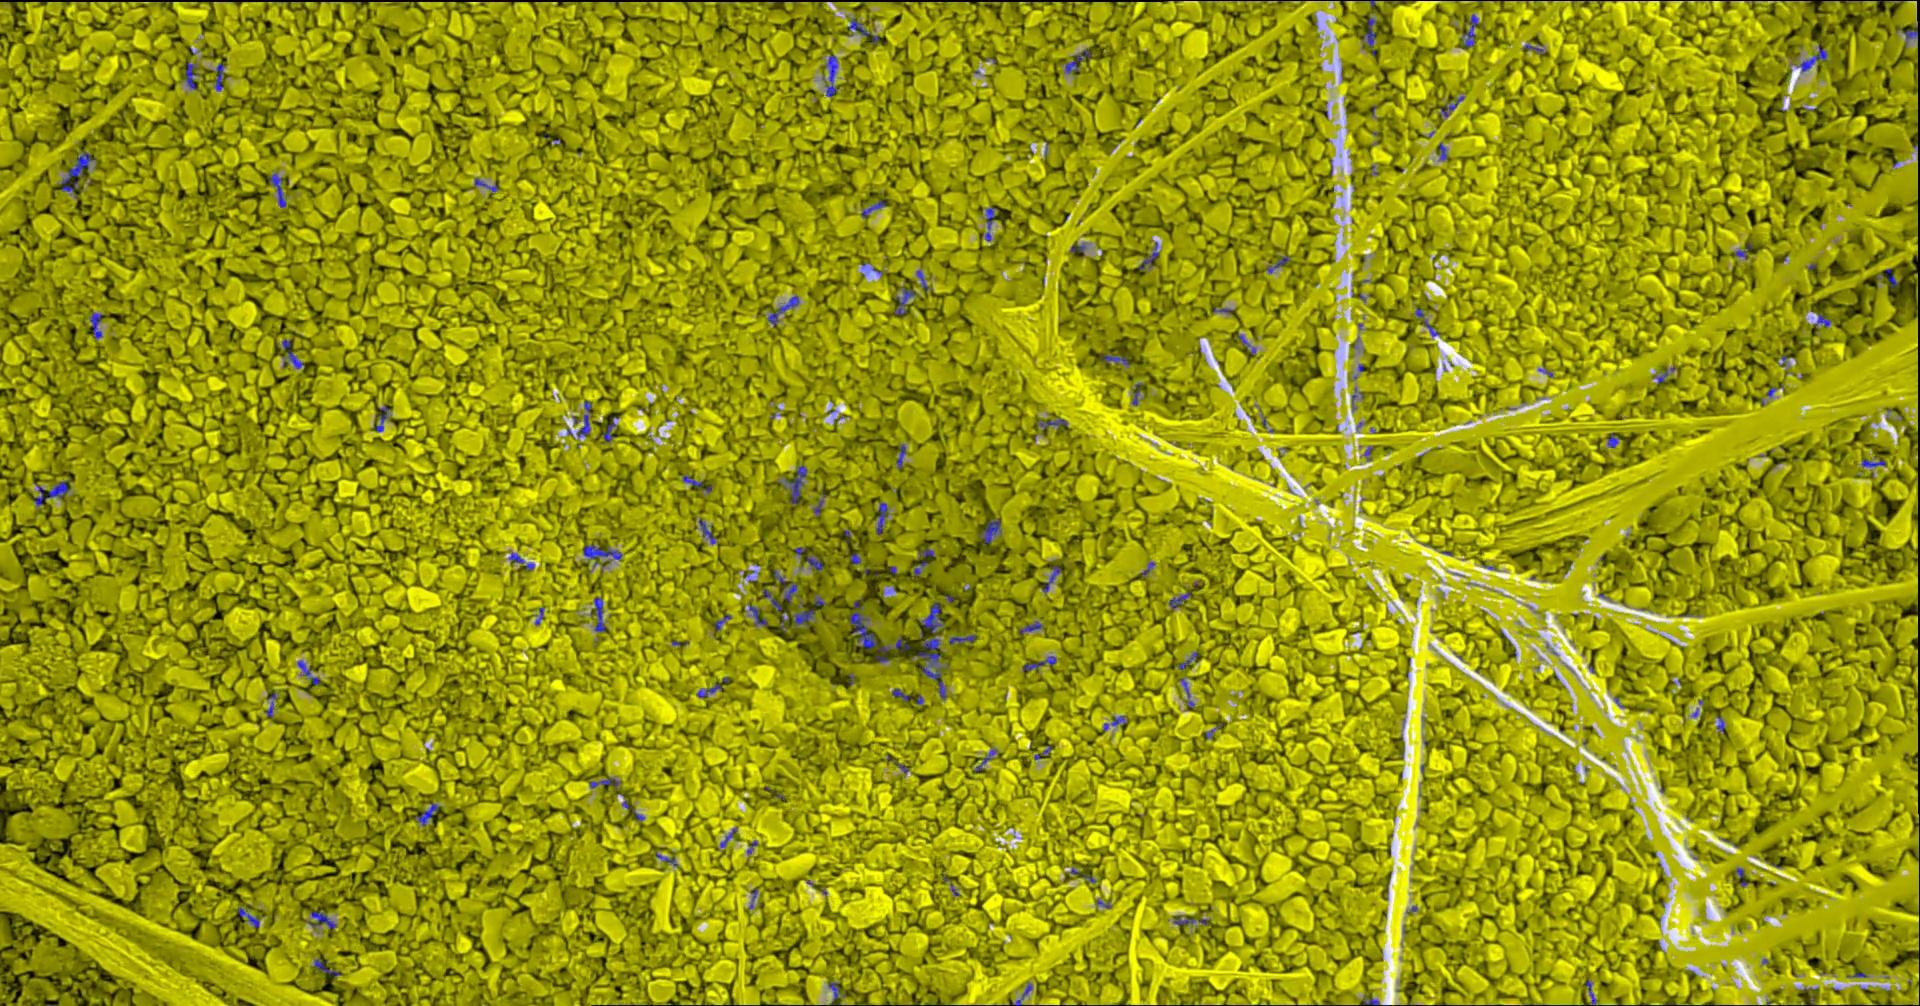ant: (912, 601, 946, 699), (850, 598, 890, 661), (60, 151, 94, 191), (33, 479, 69, 506), (767, 295, 797, 325), (582, 544, 622, 567), (783, 465, 806, 504), (568, 400, 590, 438), (773, 569, 797, 605), (1799, 44, 1826, 71), (1415, 307, 1439, 337), (1064, 48, 1091, 74), (824, 55, 839, 97), (978, 517, 1001, 545), (1137, 241, 1158, 271), (893, 286, 914, 315), (282, 339, 303, 368), (414, 801, 439, 826), (305, 909, 337, 929), (590, 596, 607, 631), (913, 547, 933, 575), (1041, 564, 1062, 592), (1460, 14, 1477, 48), (312, 958, 342, 977), (1437, 95, 1463, 117), (1361, 17, 1375, 55), (269, 173, 284, 207), (1022, 655, 1057, 671), (297, 661, 319, 685), (973, 749, 996, 771), (682, 475, 711, 492), (1012, 981, 1031, 1005), (860, 199, 885, 217), (237, 907, 259, 927), (762, 588, 781, 611), (846, 18, 870, 36), (1168, 591, 1191, 608), (875, 502, 888, 533), (698, 518, 715, 542), (984, 207, 996, 241), (1237, 333, 1255, 354), (1266, 255, 1289, 272), (1036, 417, 1065, 429), (603, 417, 618, 441), (1102, 715, 1126, 730), (1879, 268, 1898, 287), (749, 605, 767, 625), (792, 608, 814, 625), (184, 61, 197, 89), (375, 405, 389, 431), (696, 683, 721, 697), (1178, 652, 1197, 669), (89, 312, 102, 338), (1098, 354, 1130, 365), (474, 177, 497, 191), (1902, 20, 1919, 39), (712, 614, 731, 630), (1173, 916, 1208, 925), (589, 777, 618, 788), (949, 634, 977, 644), (1018, 621, 1043, 633), (264, 692, 276, 716), (1733, 243, 1751, 258), (827, 982, 838, 1005), (1813, 312, 1830, 328), (215, 64, 223, 90), (805, 556, 822, 570), (891, 688, 909, 701), (897, 445, 905, 469), (894, 636, 909, 650), (1363, 997, 1389, 1005), (1608, 432, 1619, 447), (1862, 459, 1884, 466)
